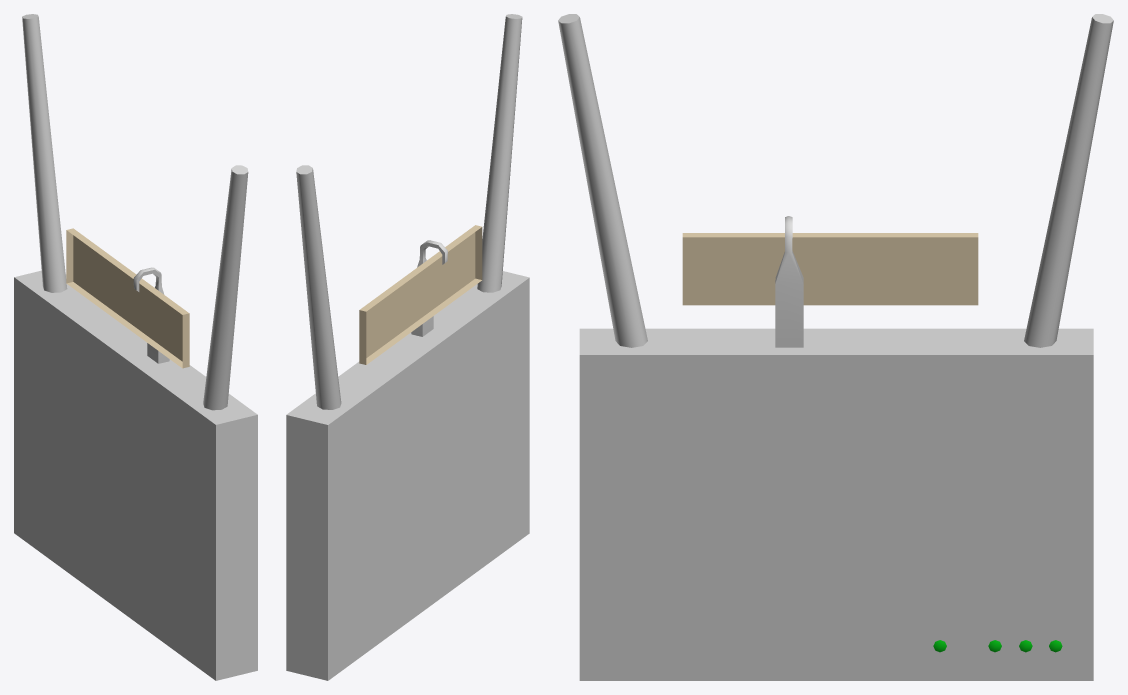
File: Router.fbx
3 renders of one model, left to right at view 1: azimuth 30°, elevation 25°; view 2: azimuth 150°, elevation 25°; view 3: azimuth 270°, elevation 25°, orthographic. The views are drawn at different scales.
Parts seen in each view (by area): view 1: Router; view 2: Router; view 3: Router.
Part boxes in pixels (x1=…): Router: x1=14, y1=14, x2=257, y2=680; Router: x1=286, y1=14, x2=529, y2=680; Router: x1=558, y1=14, x2=1113, y2=680.
Size of the model in its own units: 0.0316 by 0.349 by 0.2703.
